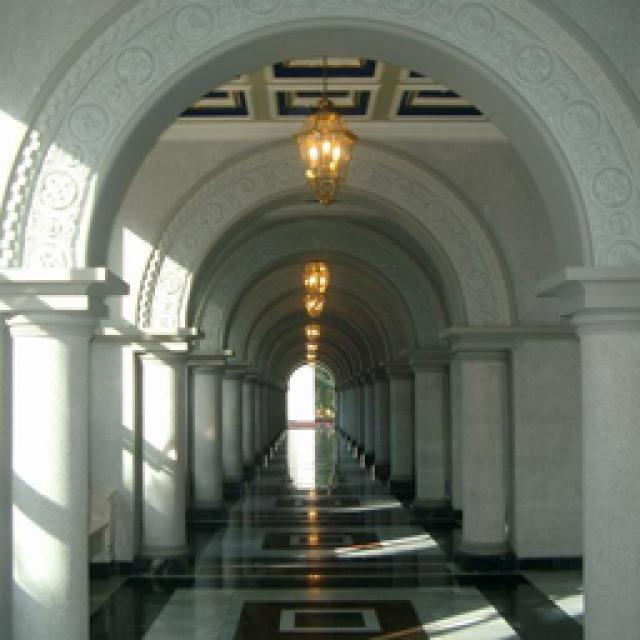ant: (592, 472, 602, 485)
book case: (48, 140, 62, 185)
books crop: (72, 192, 138, 240), (40, 50, 118, 90), (212, 178, 270, 220), (378, 148, 470, 172), (140, 152, 212, 178), (135, 60, 192, 90), (270, 175, 315, 212), (210, 65, 265, 95), (270, 138, 312, 168), (380, 200, 465, 212), (270, 108, 315, 125), (348, 178, 372, 205), (530, 205, 568, 222), (145, 120, 210, 128), (478, 118, 508, 130), (338, 88, 372, 98)
bookshelves: (312, 72, 640, 330), (8, 38, 320, 260)
chair: (10, 270, 122, 335), (142, 255, 228, 315), (218, 242, 290, 295), (270, 230, 340, 278), (315, 220, 380, 268), (440, 215, 515, 255)
chair -occluded-: (238, 320, 465, 585), (15, 322, 232, 580)
chair crop: (522, 238, 608, 390), (435, 288, 515, 430), (492, 265, 540, 385)
conferance table and chairs: (2, 218, 605, 582)
conference table: (98, 248, 540, 398)
projection screen: (382, 0, 640, 18)
string: (512, 15, 530, 110)
